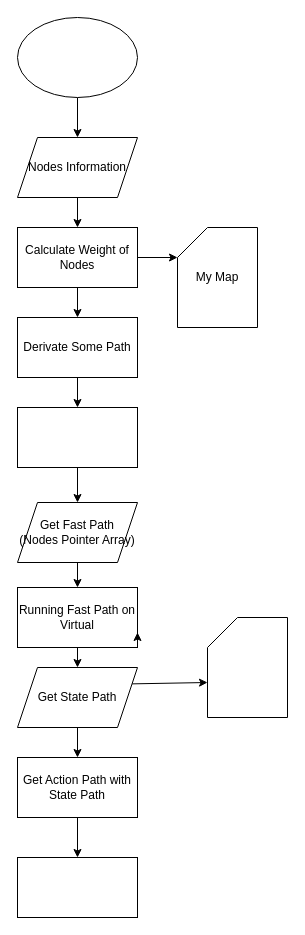
Some shapes in this 305 by 935 pixel diagram are drawn without their labels. Each missing label, with the centre of its shape:
"Check by Printf" belongs at point 247,667.
"Fastest Running" belongs at point 77,887.
"Select One Path" belongs at point 77,437.
"Start" belongs at point 77,57.
